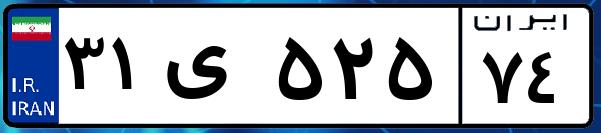1: (110, 28, 158, 98)
2: (330, 28, 385, 110)
3: (57, 26, 110, 100)
4: (525, 38, 570, 115)
5: (270, 28, 330, 110), (385, 28, 445, 110)
7: (475, 38, 525, 113)
ی: (158, 20, 270, 120)
